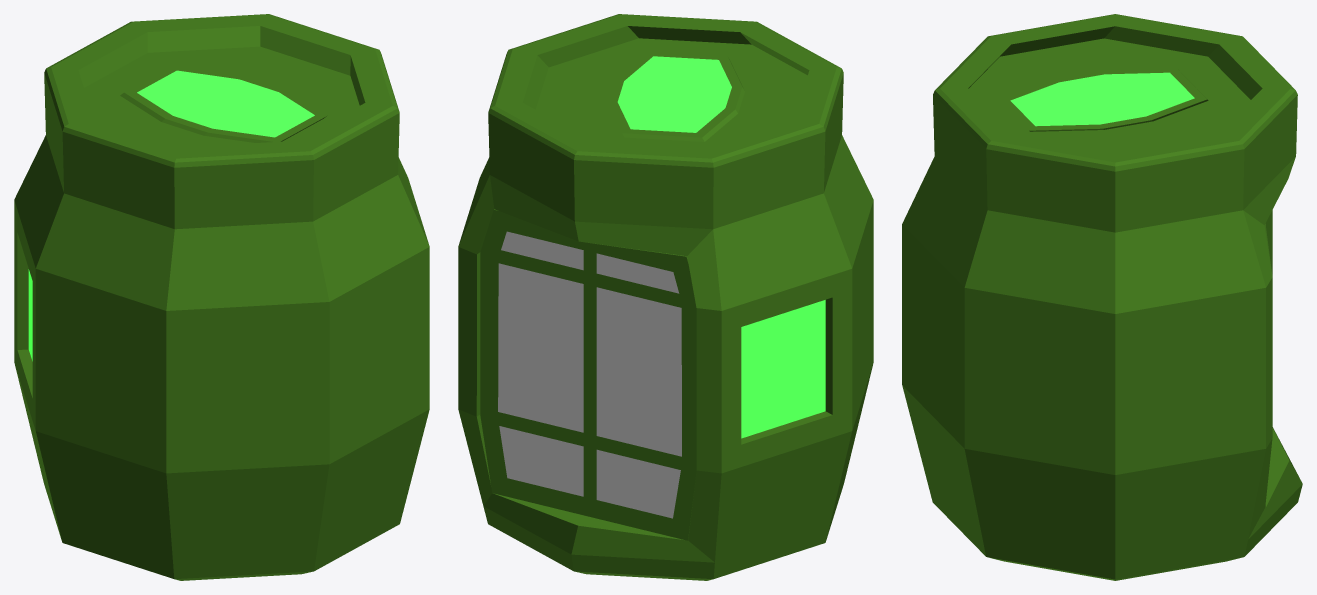
The model's file is cargocontainer-green.glb.
3 views of the same model, side by side, from view 1: azimuth 30°, elevation 25°; view 2: azimuth 150°, elevation 25°; view 3: azimuth 270°, elevation 25° (orthographic).
Parts seen in each view (by area): view 1: cilindro, pannello; view 2: cilindro, cilindro.001, oblo, pannello; view 3: cilindro, pannello.
Boxes of the visible parts, left/top/right/bottom form: cilindro: left=14, top=14, right=429, bottom=580; pannello: left=137, top=70, right=314, bottom=137; cilindro: left=458, top=14, right=873, bottom=580; cilindro.001: left=498, top=231, right=681, bottom=518; oblo: left=741, top=300, right=825, bottom=438; pannello: left=617, top=56, right=731, bottom=132; cilindro: left=902, top=14, right=1302, bottom=580; pannello: left=1010, top=72, right=1194, bottom=126.
Size of the model in its own units: 2.33 by 2.57 by 2.19.
